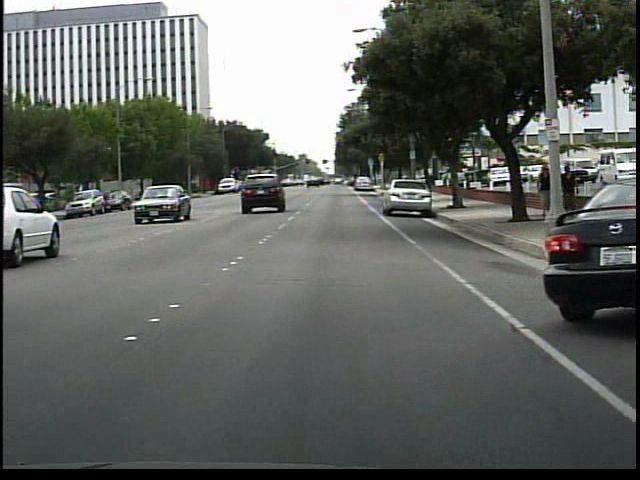person: (533, 161, 556, 224), (557, 158, 579, 219)
